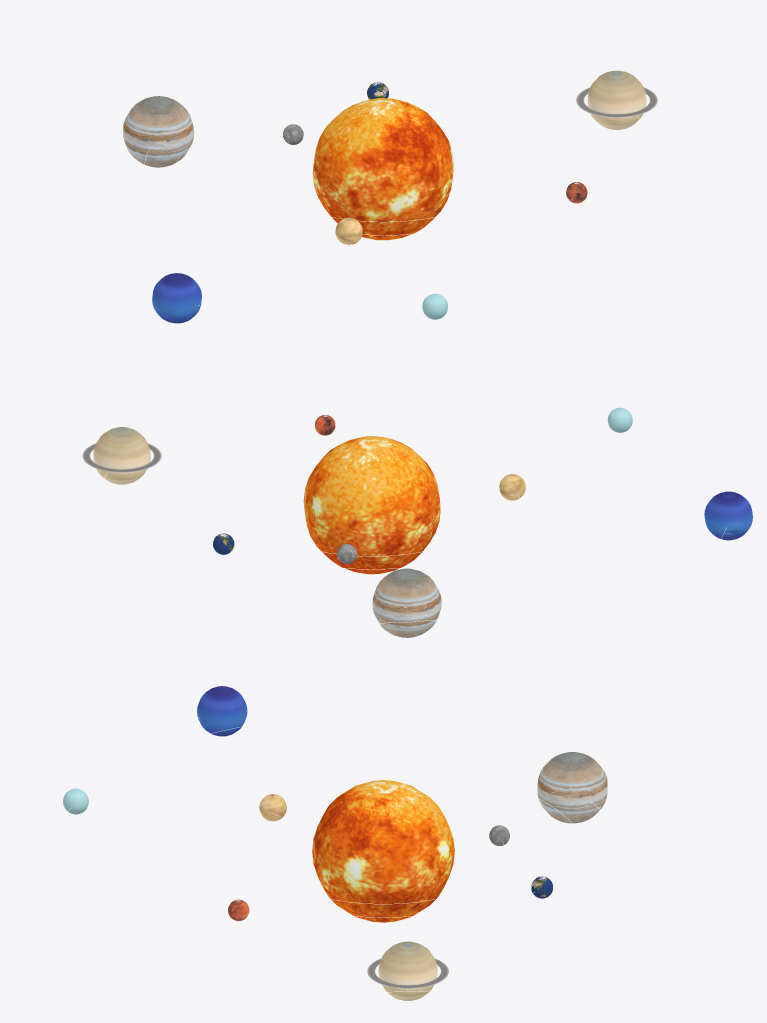
Rendered from NEW-PLANETS.glb.
3 renders of one model, top to bottom at view 1: azimuth 30°, elevation 25°; view 2: azimuth 150°, elevation 25°; view 3: azimuth 270°, elevation 25°, orthographic. The views are drawn at different scales.
Visible parts, largest first — view 1: Object_29, BezierCircle.008, BezierCircle.007, BezierCircle.006, BezierCircle.005, BezierCircle.004, BezierCircle.003, BezierCircle.001; view 2: Object_29, BezierCircle.008, BezierCircle.007, BezierCircle.006, BezierCircle.005, BezierCircle.004, BezierCircle.003, BezierCircle.001; view 3: Object_29, BezierCircle.008, BezierCircle.007, BezierCircle.006, BezierCircle.005, BezierCircle.004, BezierCircle.003, BezierCircle.001.
Part boxes in pixels (x1,y1,x2,y2): Object_29: (122, 70, 657, 323); BezierCircle.008: (14, 14, 752, 326); BezierCircle.007: (53, 30, 713, 310); BezierCircle.006: (98, 49, 668, 291); BezierCircle.005: (143, 69, 623, 271); BezierCircle.004: (182, 85, 584, 255); BezierCircle.003: (205, 95, 561, 245); BezierCircle.001: (230, 107, 536, 235); Object_29: (82, 407, 752, 637); BezierCircle.008: (14, 355, 727, 657); BezierCircle.007: (52, 371, 692, 641); BezierCircle.006: (95, 389, 648, 623); BezierCircle.005: (139, 408, 604, 604); BezierCircle.004: (177, 424, 566, 588); BezierCircle.003: (199, 433, 545, 579); BezierCircle.001: (223, 445, 521, 569); Object_29: (63, 686, 607, 1000); BezierCircle.008: (14, 696, 752, 1008); BezierCircle.007: (53, 713, 713, 992); BezierCircle.006: (98, 732, 668, 973); BezierCircle.005: (143, 751, 623, 954); BezierCircle.004: (182, 767, 584, 937); BezierCircle.003: (205, 777, 561, 928); BezierCircle.001: (230, 789, 536, 917).
Size of the model in its own units: 25.05 by 4.82 by 25.05.
Materials: 2 (1 with a texture image).
